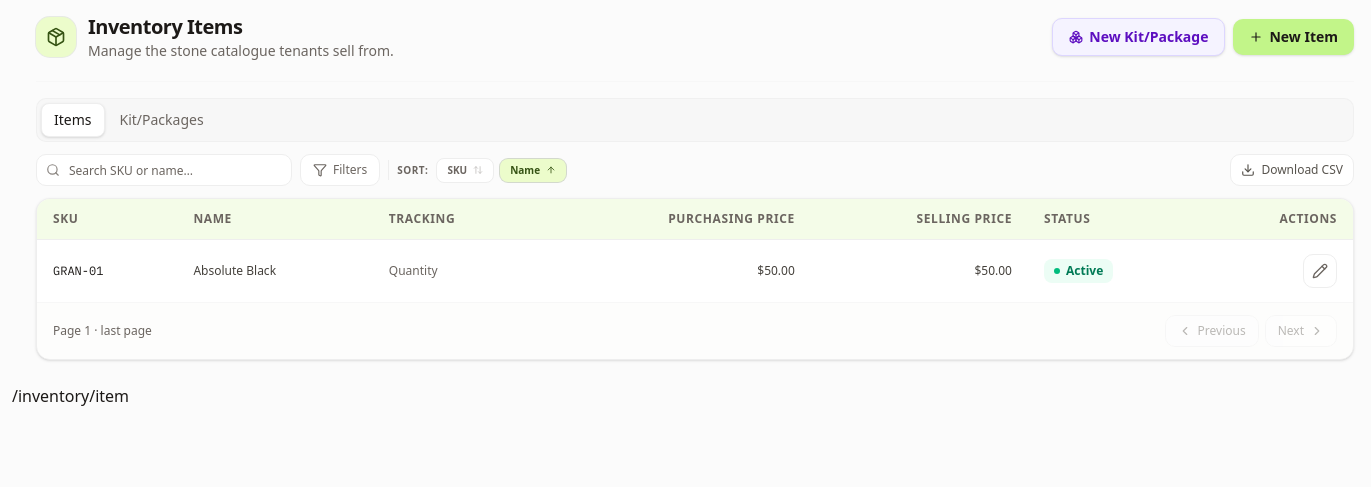
Test case: Inventory Items page — Kits tab › switches to the Kits tab, keeps it in the address, and lists the kits with their counts
Check: the text "Absolute Black" is shown, box [178,240,373,302]
Click the tab "Kit/Packages" at (162, 120), box [106,103,217,137]
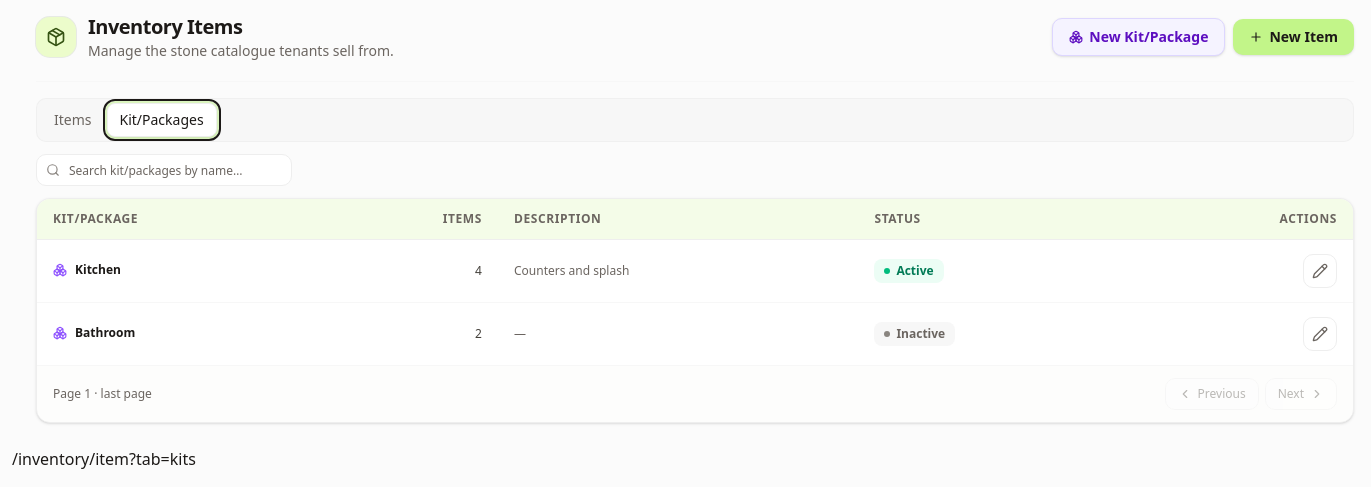
Check: the link "Kitchen" is shown, box [53,262,121,278]
Check: the text with test id "where" reads "/inventory/item?tab=kits", box [12,448,196,470]
Check: the text "4" is shown, box [324,240,498,302]
